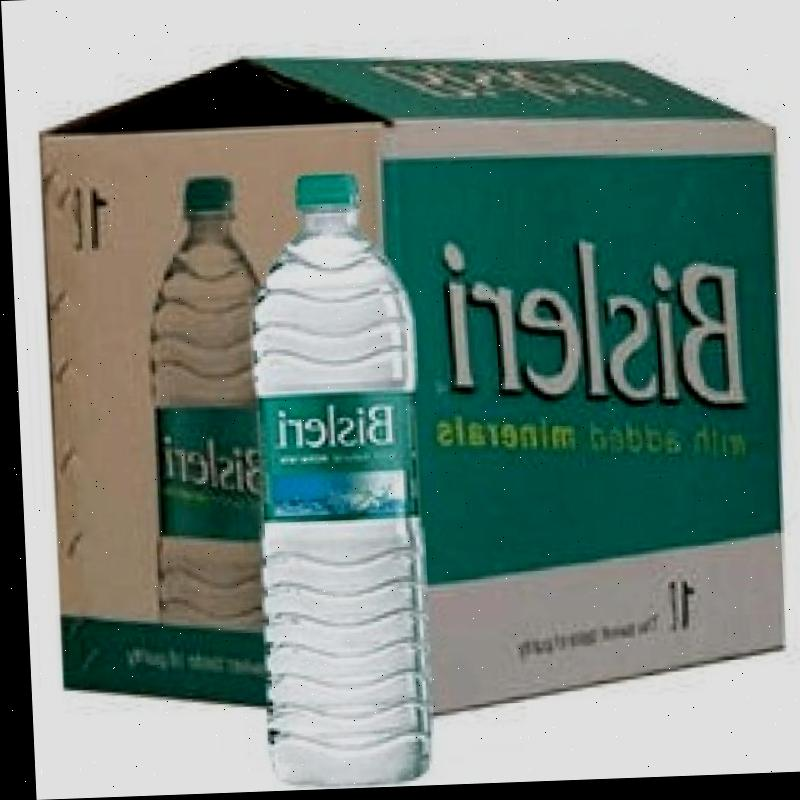botella: (237, 175, 427, 789)
